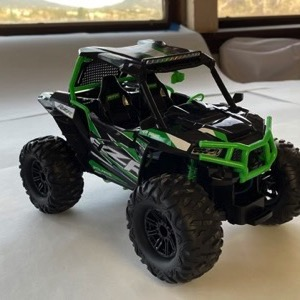polaris: (19, 39, 299, 287)
